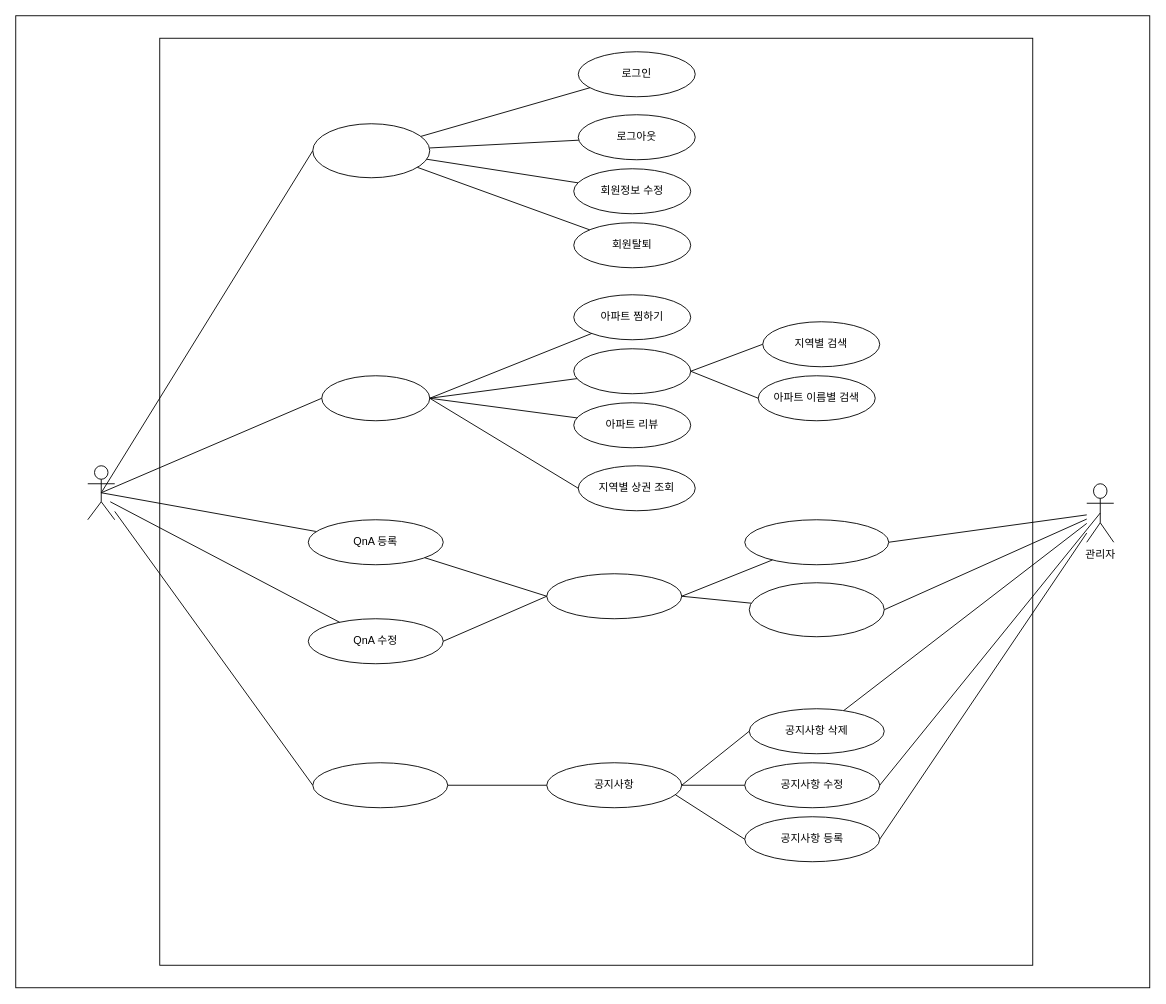
Some shapes in this 1166 by 1004 pixel diagram are drawn without their labels. The shapes that lost their labels are listed below. From the top down, each one's centre as x and y in pixels, then its label:
At (371,150): "내 계정 관리".
At (632,371): "아파트 실거래가 검색".
At (375,398): "아파트 매매 관련".
At (101,492): "사용자".
At (816,542): "QnA 답변".
At (614,596): "QnA".
At (816,609): "QnA 삭제".
At (380,785): "공지사항 조회".
